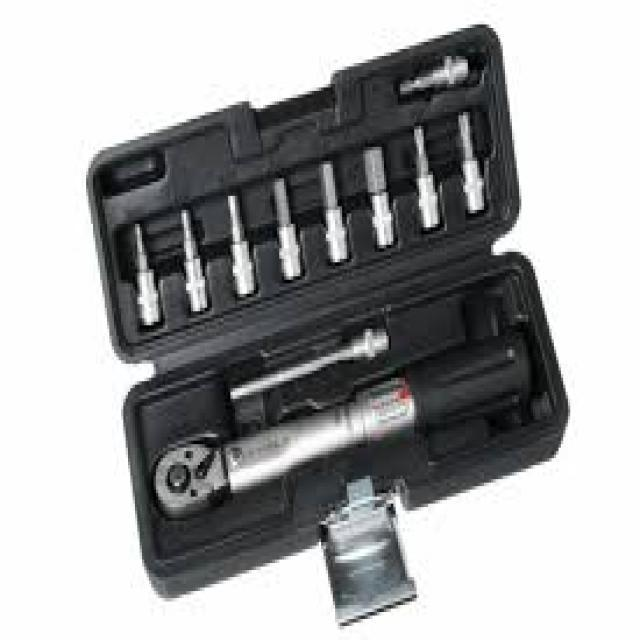wrench: (149, 332, 533, 526)
